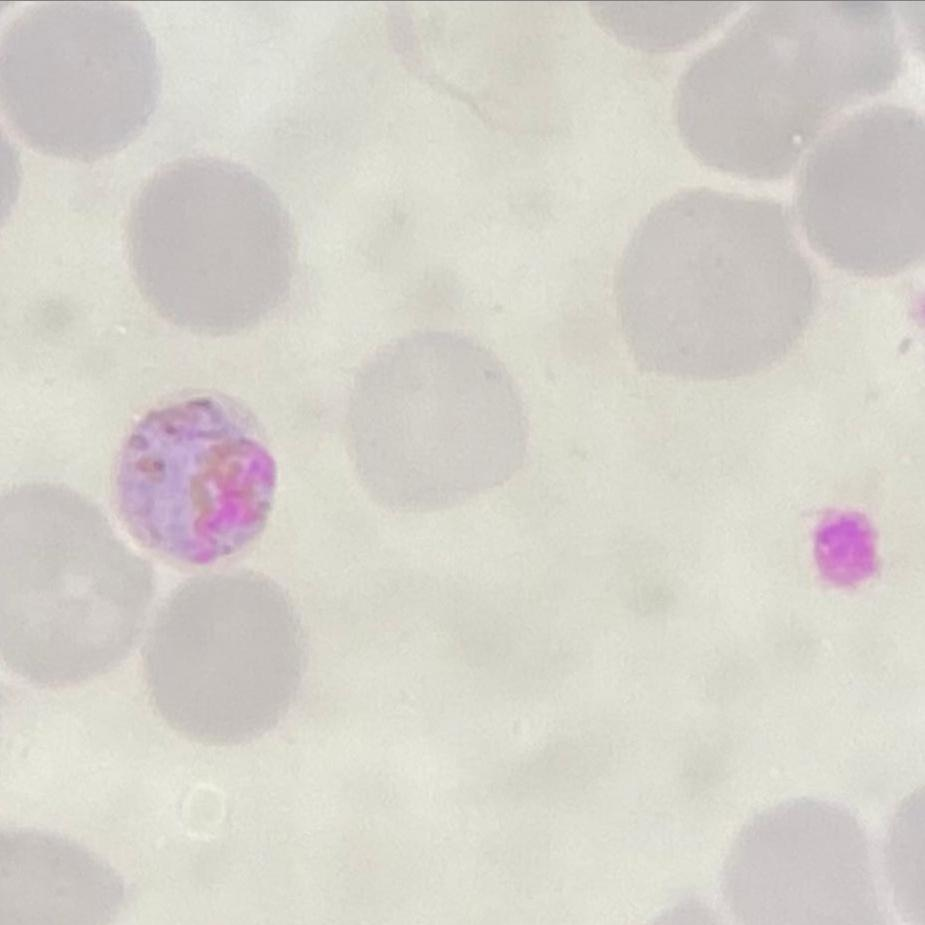Infected: (113, 383, 281, 567)
Uninfected: (673, 3, 921, 175), (617, 188, 814, 379), (352, 333, 529, 520), (0, 478, 148, 686), (127, 158, 294, 335), (145, 571, 306, 749), (0, 0, 161, 162), (792, 103, 925, 277), (722, 793, 879, 925)
